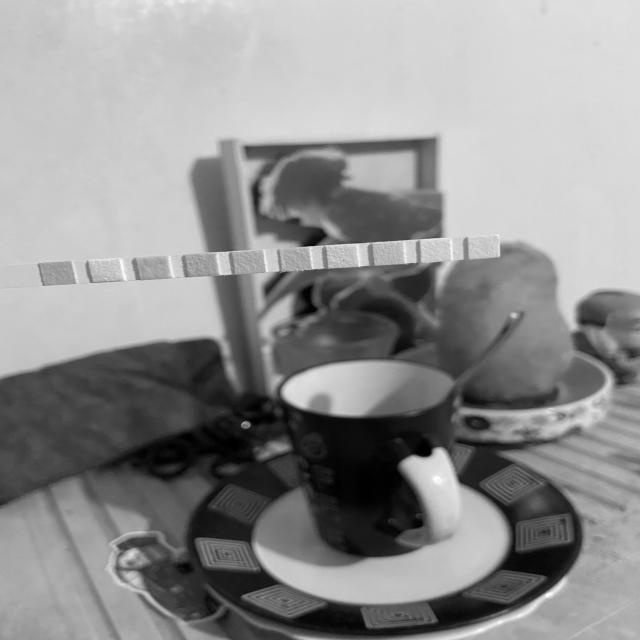Bilirubin: (95, 261, 121, 281)
Blood: (236, 252, 263, 272)
Glucose: (46, 263, 72, 283)
Ketone: (141, 259, 168, 278)
Leukocytes: (470, 238, 498, 257)
Nitrite: (424, 241, 449, 260)
Protein: (330, 247, 356, 266)
SpGravity: (190, 255, 217, 275)
Urobilinogen: (376, 243, 402, 263)
background: (0, 0, 640, 640)
pH: (282, 250, 309, 269)
strip: (1, 235, 501, 288)
